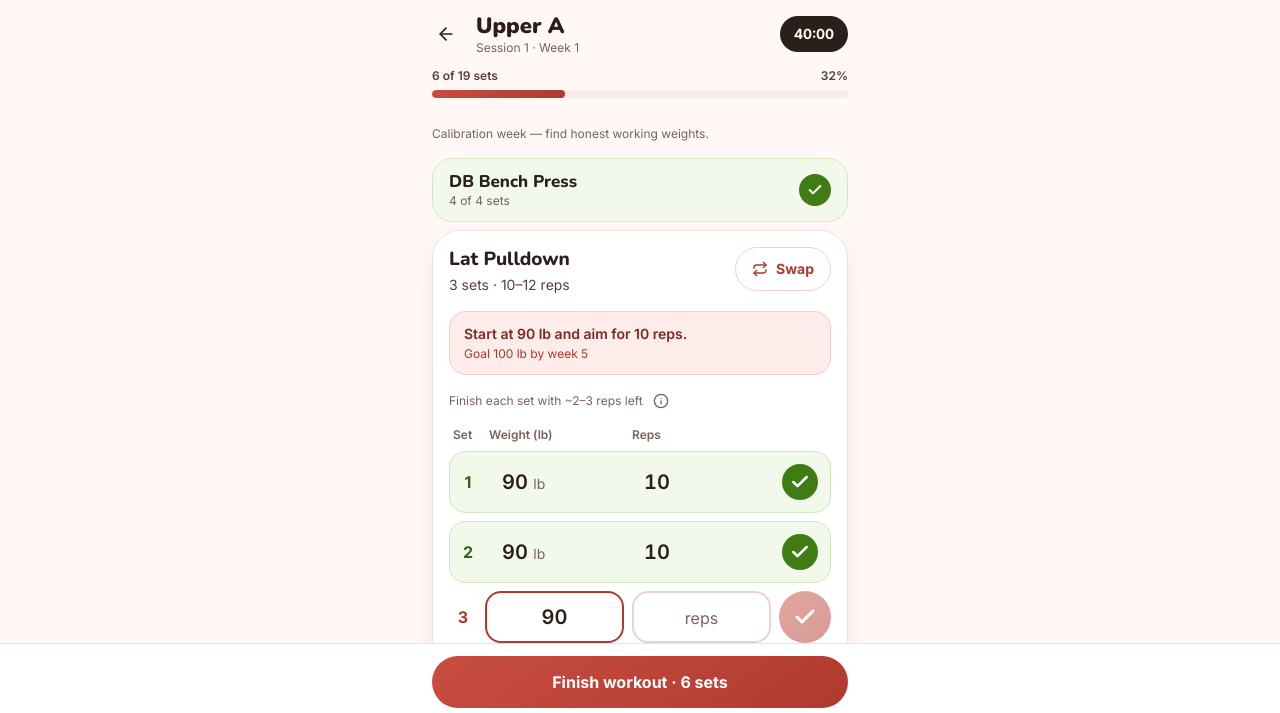
Scenario: Workout complete › shows the right duration, sets and volume
Click the button "Finish workout · 6 sets": (640, 682) [432,656,848,708]
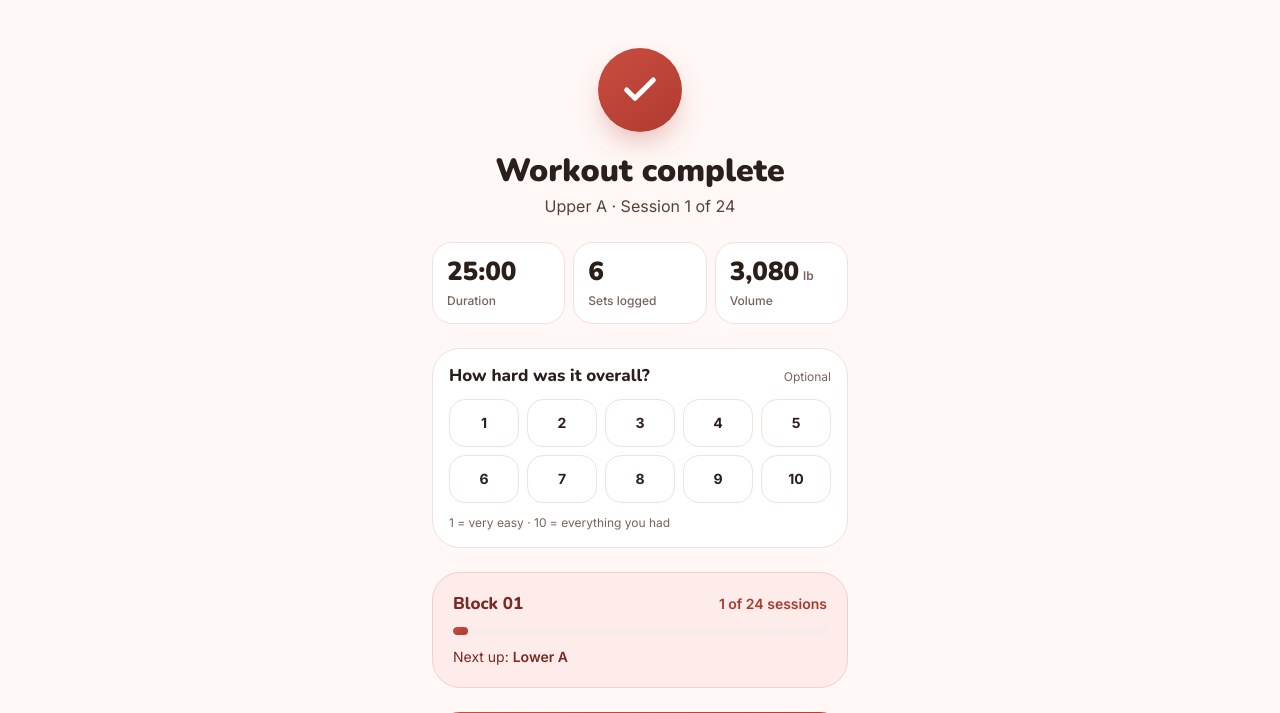
Expected: the heading "Workout complete" is shown, [495,152,785,190]
Expected: the text "Upper A · Session 1 of 24" is shown, [545,194,735,218]
Expected: the element showing "25:00 Duration" is shown, [432,242,565,324]
